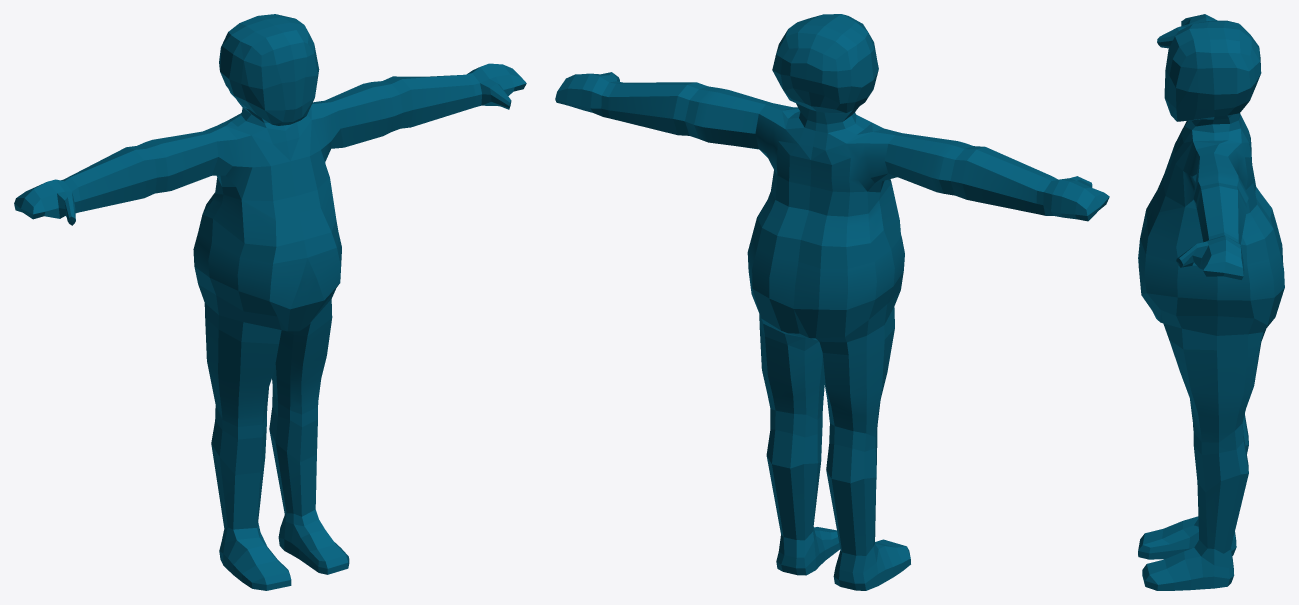
The picture shows the model from 3 angles, left to right: view 1: azimuth 30°, elevation 25°; view 2: azimuth 150°, elevation 25°; view 3: azimuth 270°, elevation 25°; orthographic projection. The views are drawn at different scales.
Parts seen in each view (by area): view 1: Angler Angler; view 2: Angler Angler; view 3: Angler Angler.
Part boxes in pixels (left/top/right/bottom): Angler Angler: left=14, top=14, right=526, bottom=590; Angler Angler: left=555, top=14, right=1109, bottom=590; Angler Angler: left=1138, top=14, right=1284, bottom=590.
Size of the model in its own units: 1.43 by 1.43 by 0.3534.
